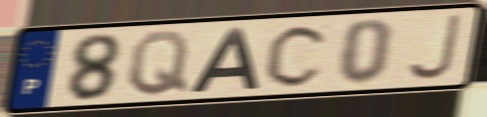0: (337, 17, 397, 88)
8: (67, 31, 124, 103)
A: (186, 26, 262, 96)
C: (261, 22, 332, 90)
J: (403, 13, 465, 83)
Q: (125, 29, 192, 99)
